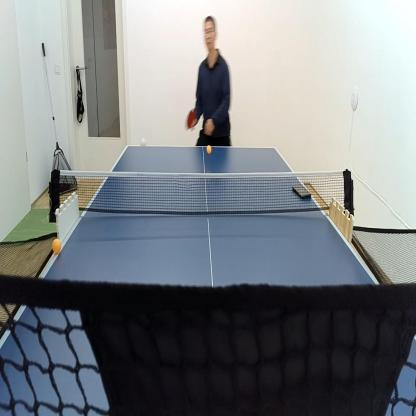Ball: (51, 236, 62, 254), (206, 145, 211, 154), (141, 139, 146, 146)
